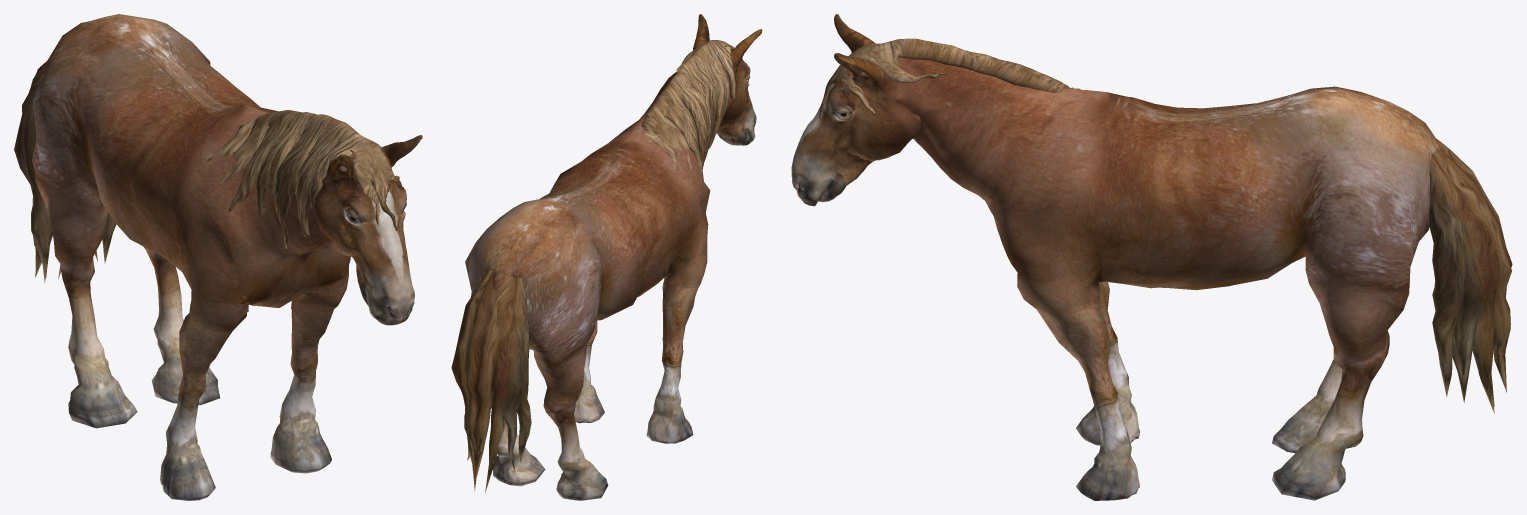
File: Caballo.obj
3 views of the same model, side by side, from view 1: azimuth 30°, elevation 25°; view 2: azimuth 150°, elevation 25°; view 3: azimuth 270°, elevation 25° (orthographic). The views are drawn at different scales.
Visible parts, largest first — view 1: Plane, BezierCurve_Mesh, BezierCurve_005_Mesh_005; view 2: Plane, BezierCurve_005_Mesh_005, BezierCurve_Mesh; view 3: Plane, BezierCurve_005_Mesh_005, BezierCurve_Mesh.
Boxes of the visible parts, x1,y1,x2,y2 form: Plane: [32, 14, 422, 500]; BezierCurve_Mesh: [206, 110, 399, 248]; BezierCurve_005_Mesh_005: [14, 61, 116, 283]; Plane: [465, 14, 762, 500]; BezierCurve_005_Mesh_005: [451, 269, 531, 493]; BezierCurve_Mesh: [641, 40, 742, 177]; Plane: [791, 14, 1454, 500]; BezierCurve_005_Mesh_005: [1428, 148, 1512, 413]; BezierCurve_Mesh: [819, 38, 1080, 118].
Size of the model in its own units: 3.88 by 9.59 by 14.47.
